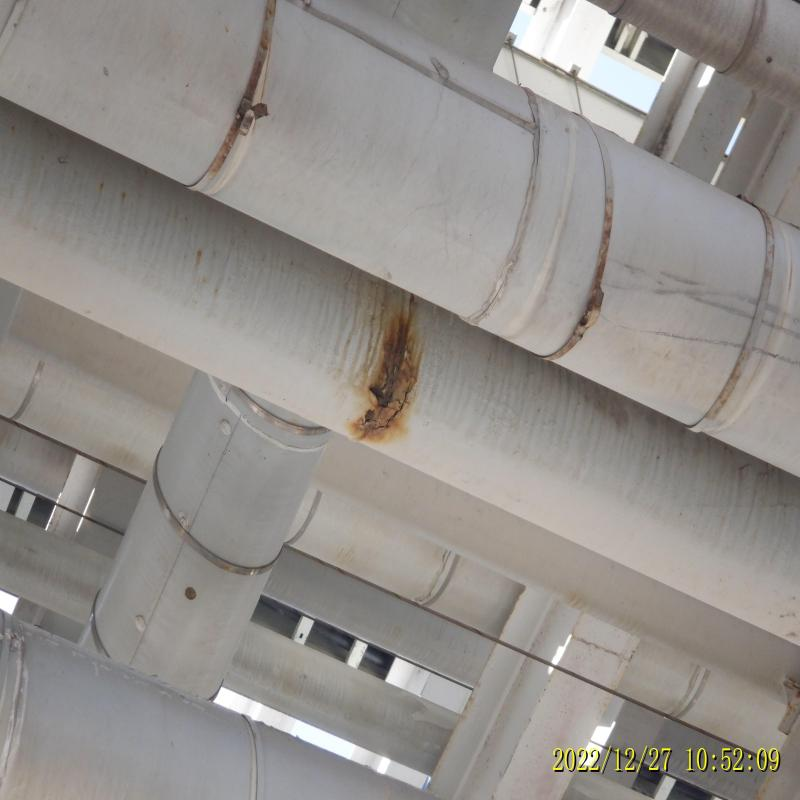corrosion: (380, 334, 417, 396), (250, 59, 275, 88)
